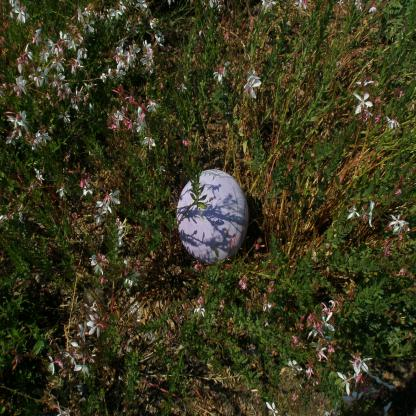Ball: (177, 170, 247, 265)
